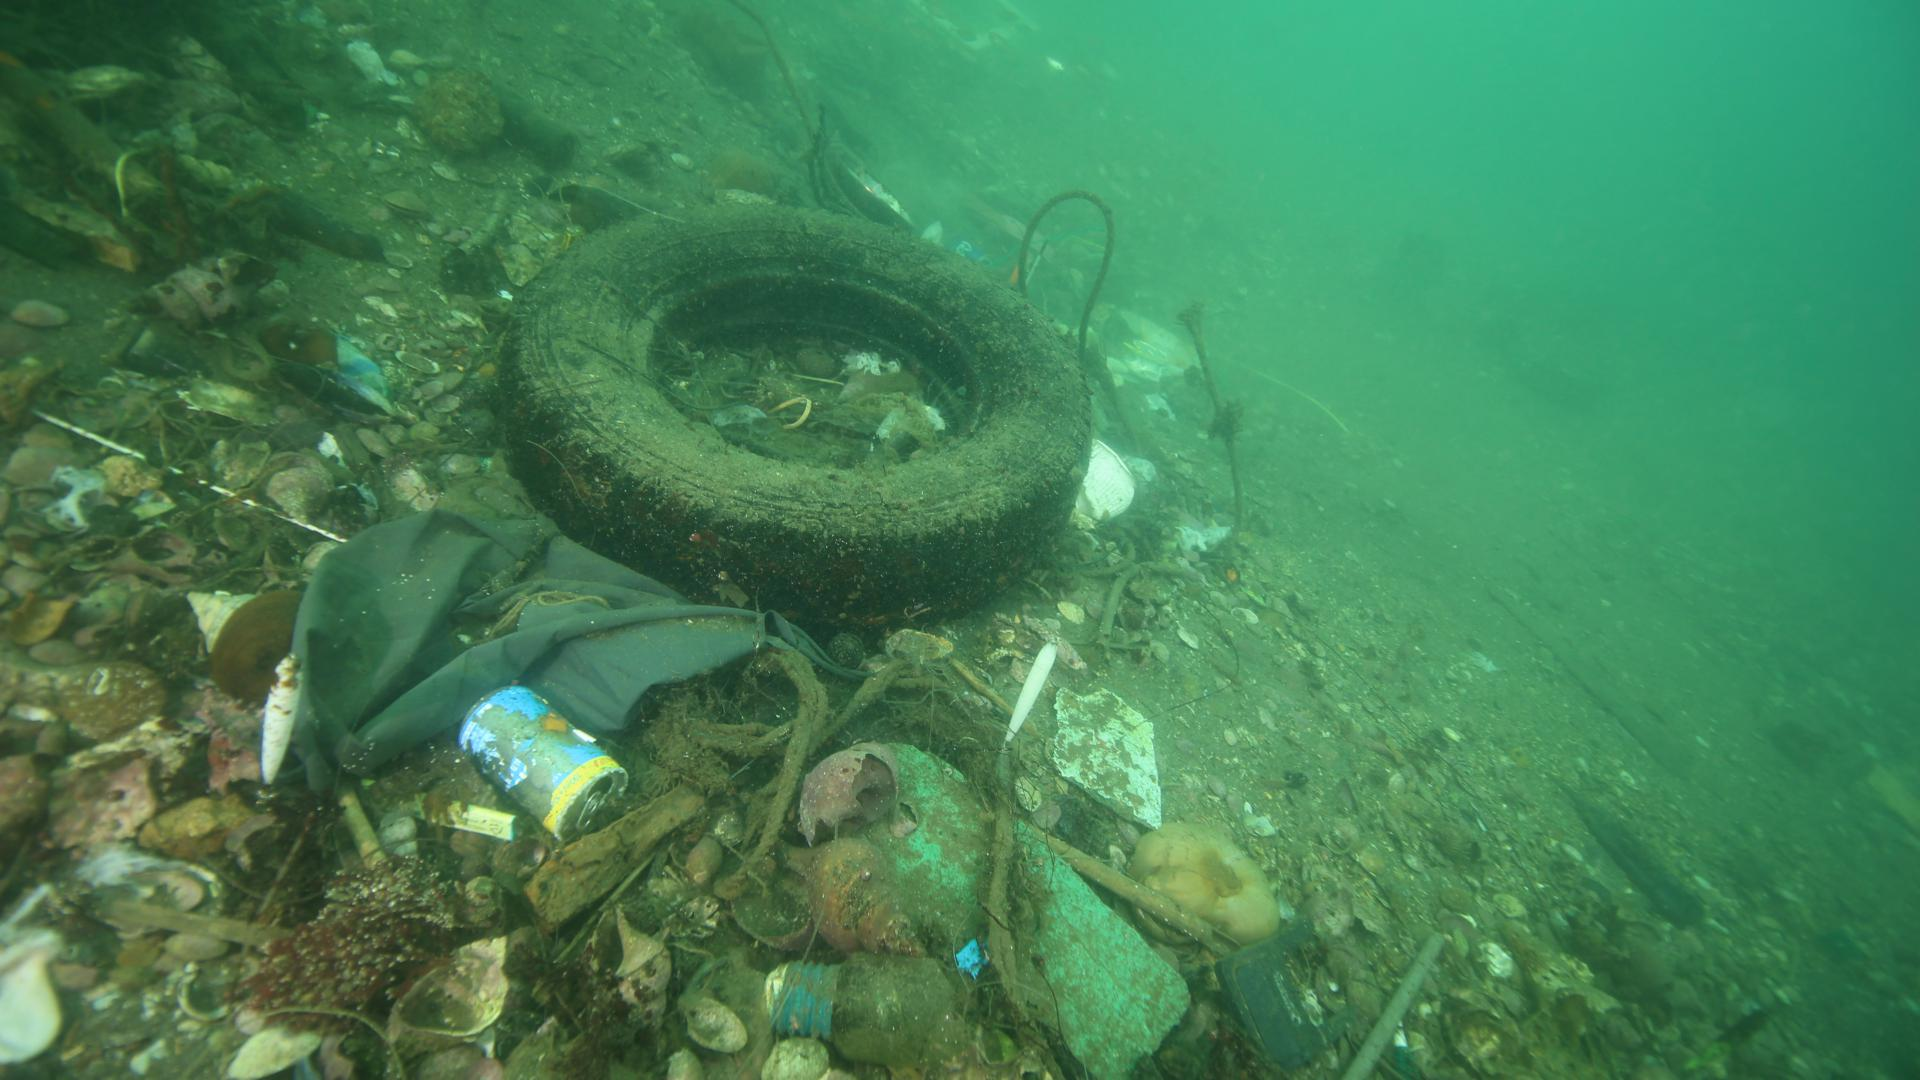rope: (1015, 187, 1118, 359)
tire: (495, 199, 1095, 612)
